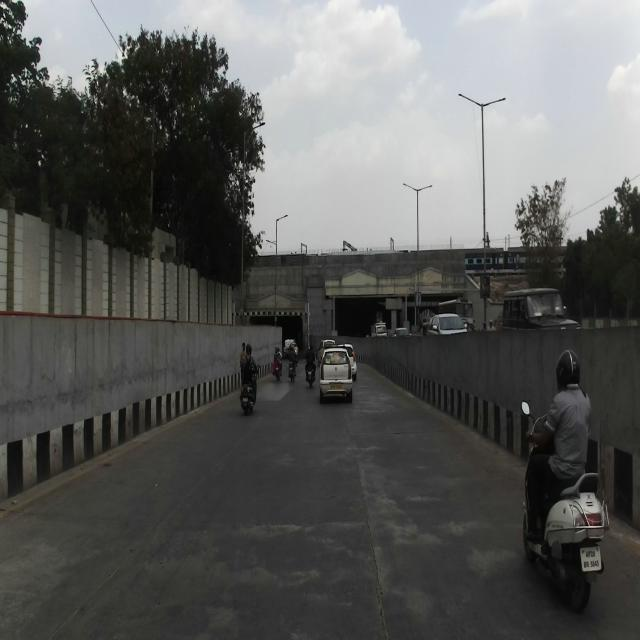car: (318, 346, 354, 400)
scooter: (521, 399, 610, 614)
